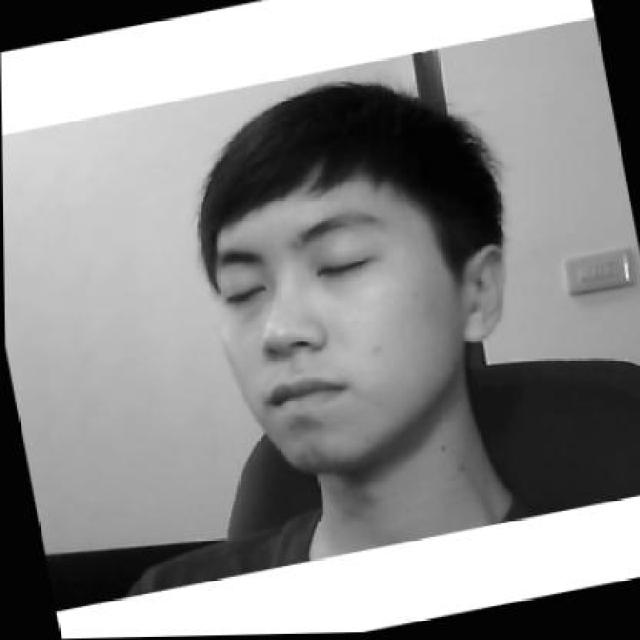inattentif: (175, 55, 534, 490)
